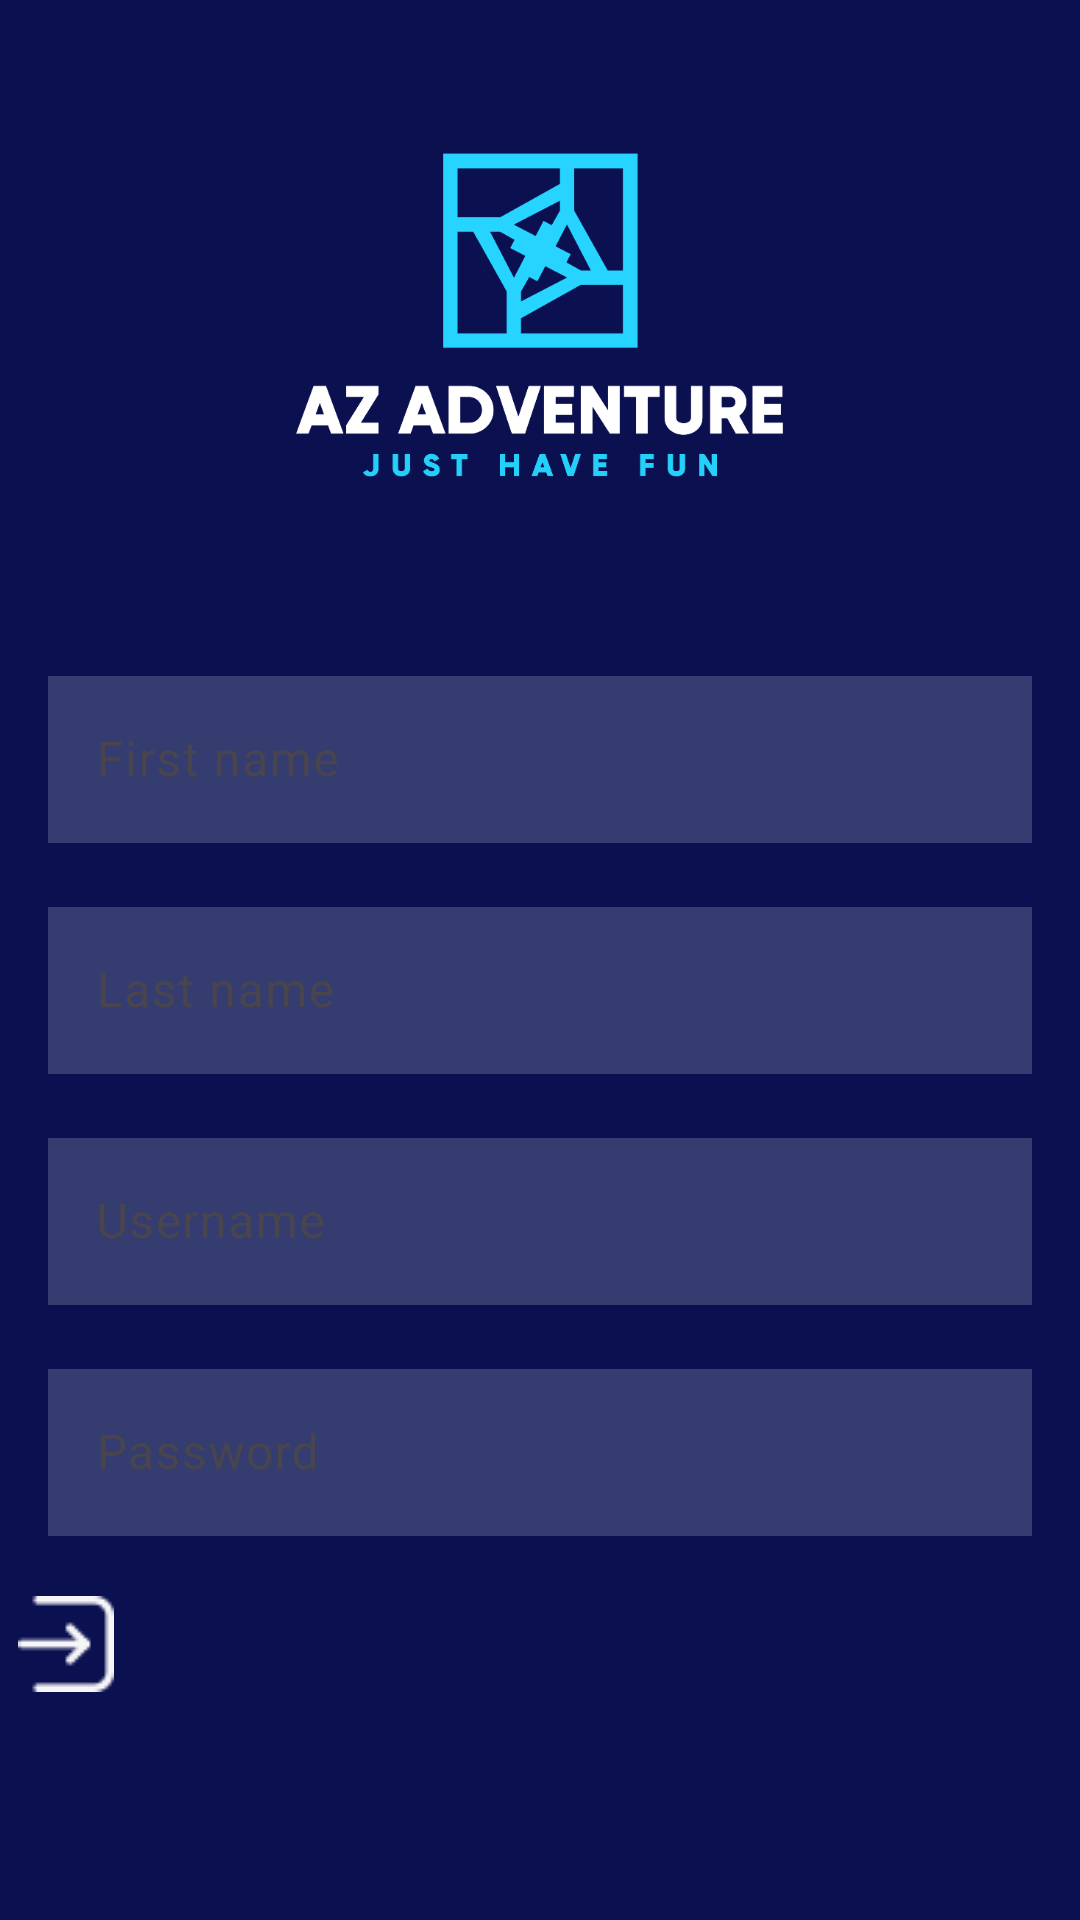

Point at icon controls on the screen. Image size 1080 x 1920, points as point (x, y).
login: point (66, 1644)
